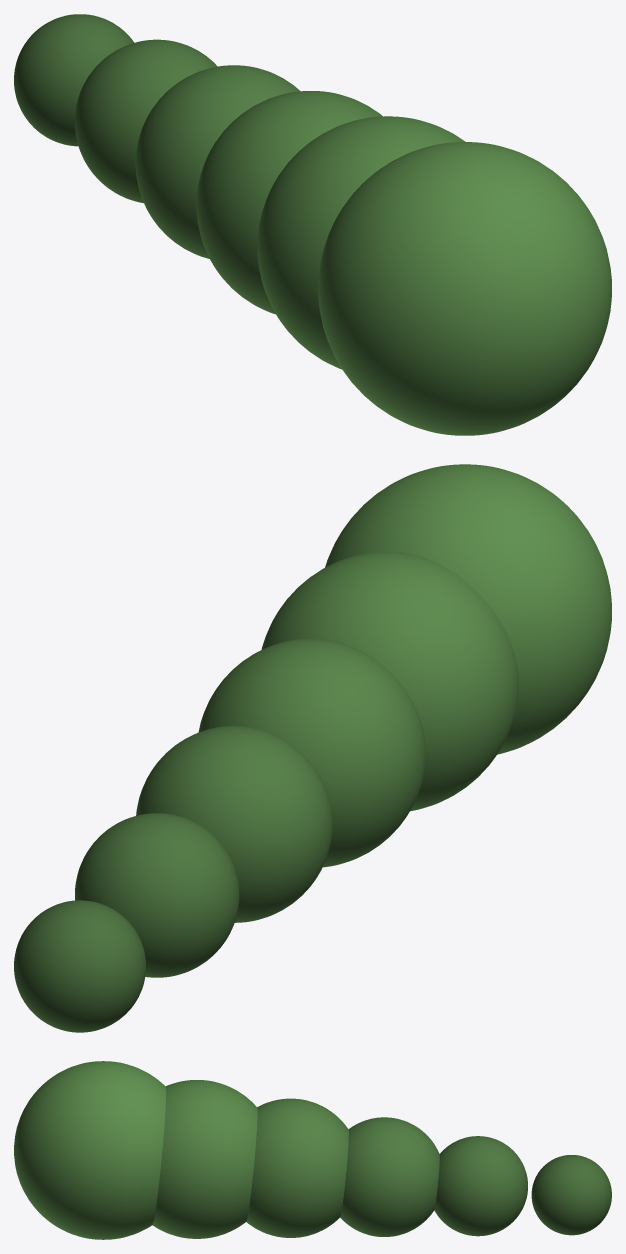
File: snake.glb
3 renders of one model, top to bottom at view 1: azimuth 30°, elevation 25°; view 2: azimuth 150°, elevation 25°; view 3: azimuth 270°, elevation 25°, orthographic. The views are drawn at different scales.
Visible parts, largest first — view 1: _MeshInstance3D_11, _MeshInstance3D_12, _MeshInstance3D_13, _MeshInstance3D_14, _MeshInstance3D_15, _MeshInstance3D_16; view 2: _MeshInstance3D_11, _MeshInstance3D_12, _MeshInstance3D_13, _MeshInstance3D_14, _MeshInstance3D_15, _MeshInstance3D_16; view 3: _MeshInstance3D_11, _MeshInstance3D_12, _MeshInstance3D_13, _MeshInstance3D_14, _MeshInstance3D_15, _MeshInstance3D_16.
Part boxes in pixels (<box>): _MeshInstance3D_11: <box>318,142,611,435</box>; _MeshInstance3D_12: <box>257,116,465,369</box>; _MeshInstance3D_13: <box>196,91,382,314</box>; _MeshInstance3D_14: <box>135,65,300,258</box>; _MeshInstance3D_15: <box>75,39,217,203</box>; _MeshInstance3D_16: <box>14,14,134,146</box>; _MeshInstance3D_11: <box>325,464,611,754</box>; _MeshInstance3D_12: <box>261,551,518,811</box>; _MeshInstance3D_13: <box>198,638,425,867</box>; _MeshInstance3D_14: <box>136,726,332,922</box>; _MeshInstance3D_15: <box>75,813,239,977</box>; _MeshInstance3D_16: <box>14,900,145,1032</box>; _MeshInstance3D_11: <box>14,1061,166,1239</box>; _MeshInstance3D_12: <box>152,1080,257,1238</box>; _MeshInstance3D_13: <box>246,1098,348,1237</box>; _MeshInstance3D_14: <box>340,1117,439,1236</box>; _MeshInstance3D_15: <box>434,1136,527,1236</box>; _MeshInstance3D_16: <box>531,1155,611,1235</box>.
Size of the model in its own units: 0.6992 by 0.7 by 2.34.
